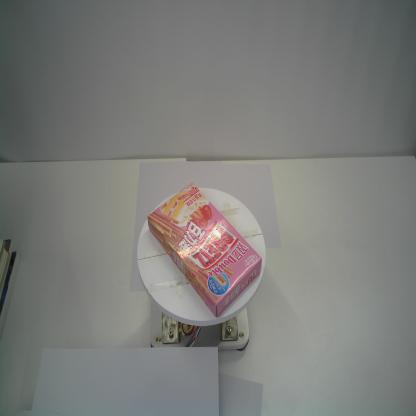Dessert: (147, 181, 263, 318)
